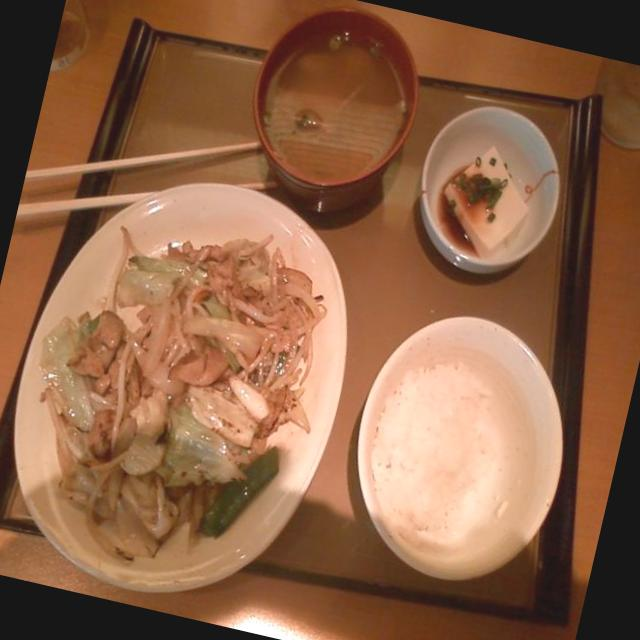Rice: (345, 334, 550, 558)
